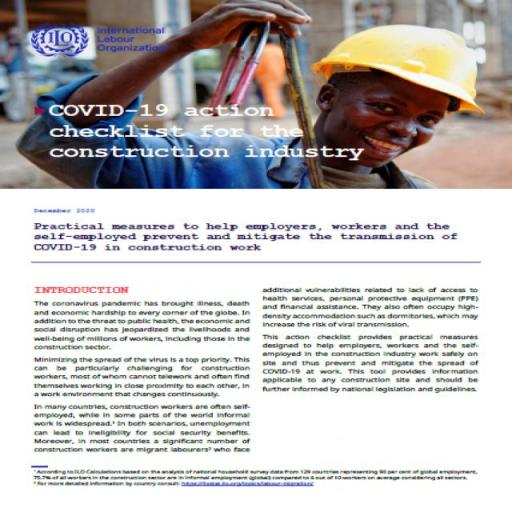helmet: (309, 22, 485, 109)
